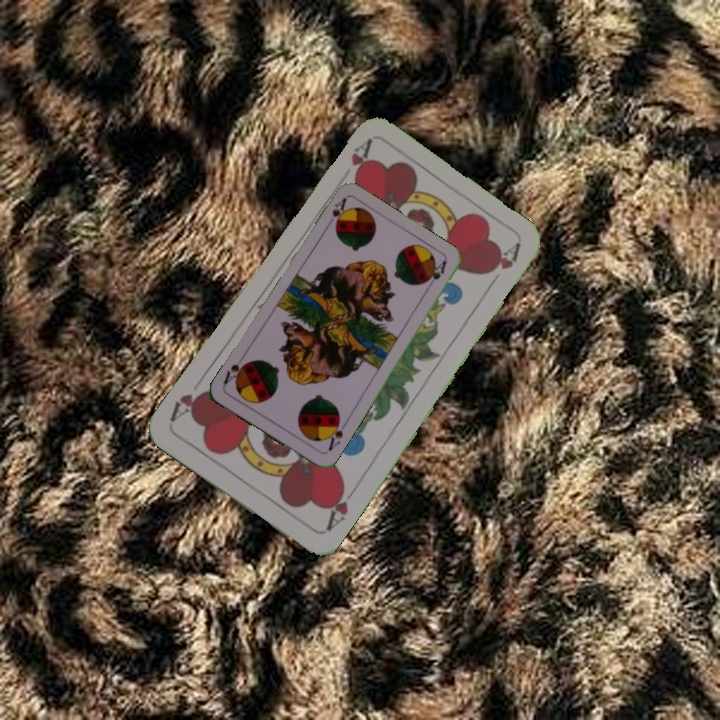HA: (321, 479, 359, 534), (346, 136, 375, 186)
SA: (322, 415, 350, 454), (328, 194, 349, 229)
